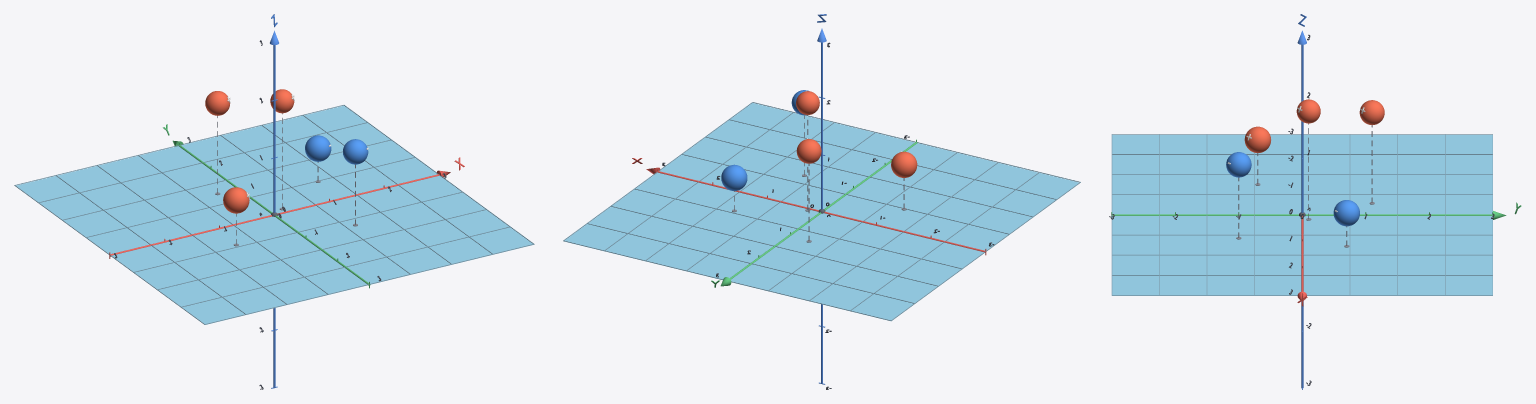
File: 5points_sep.glb
The picture shows the model from 3 angles, left to right: view 1: azimuth 30°, elevation 25°; view 2: azimuth 150°, elevation 25°; view 3: azimuth 270°, elevation 25°; orthographic projection.
Visible parts, largest first — view 1: Observation_Plane, Grid, Axis_X, Axis_Z, Charge_04_Negative, Charge_01_Positive, Axis_Y, Charge_02_Negative, Charge_03_Positive, Charge_05_Positive; view 2: Observation_Plane, Grid, Axis_X, Charge_04_Negative, Charge_01_Positive, Axis_Y, Charge_03_Positive, Axis_Z, Charge_05_Positive; view 3: Observation_Plane, Grid, Axis_Z, Axis_Y, Charge_04_Negative, Charge_01_Positive, Charge_02_Negative, Charge_03_Positive, Charge_05_Positive.
Part boxes in pixels (x1,y1,x2,y2): Observation_Plane: [16, 105, 533, 324]; Grid: [14, 105, 534, 324]; Axis_X: [110, 174, 439, 256]; Axis_Z: [273, 45, 275, 387]; Charge_04_Negative: [305, 135, 331, 161]; Charge_01_Positive: [223, 187, 249, 213]; Axis_Y: [178, 145, 370, 285]; Charge_02_Negative: [343, 139, 368, 164]; Charge_03_Positive: [205, 91, 230, 115]; Charge_05_Positive: [270, 89, 294, 113]; Observation_Plane: [564, 103, 1078, 321]; Grid: [563, 102, 1080, 320]; Axis_X: [658, 171, 985, 252]; Charge_04_Negative: [721, 164, 747, 190]; Charge_01_Positive: [891, 151, 917, 177]; Axis_Y: [730, 142, 917, 279]; Charge_03_Positive: [796, 139, 821, 163]; Axis_Z: [821, 42, 822, 383]; Charge_05_Positive: [796, 91, 819, 114]; Observation_Plane: [1112, 135, 1492, 295]; Grid: [1111, 134, 1492, 295]; Axis_Z: [1301, 44, 1303, 388]; Axis_Y: [1112, 214, 1492, 215]; Charge_04_Negative: [1333, 200, 1359, 226]; Charge_01_Positive: [1244, 126, 1270, 152]; Charge_02_Negative: [1226, 152, 1251, 177]; Charge_03_Positive: [1359, 100, 1384, 125]; Charge_05_Positive: [1296, 99, 1320, 123].
Bounding box in the file's own units: 6.51 × 6.5 × 6.5.
